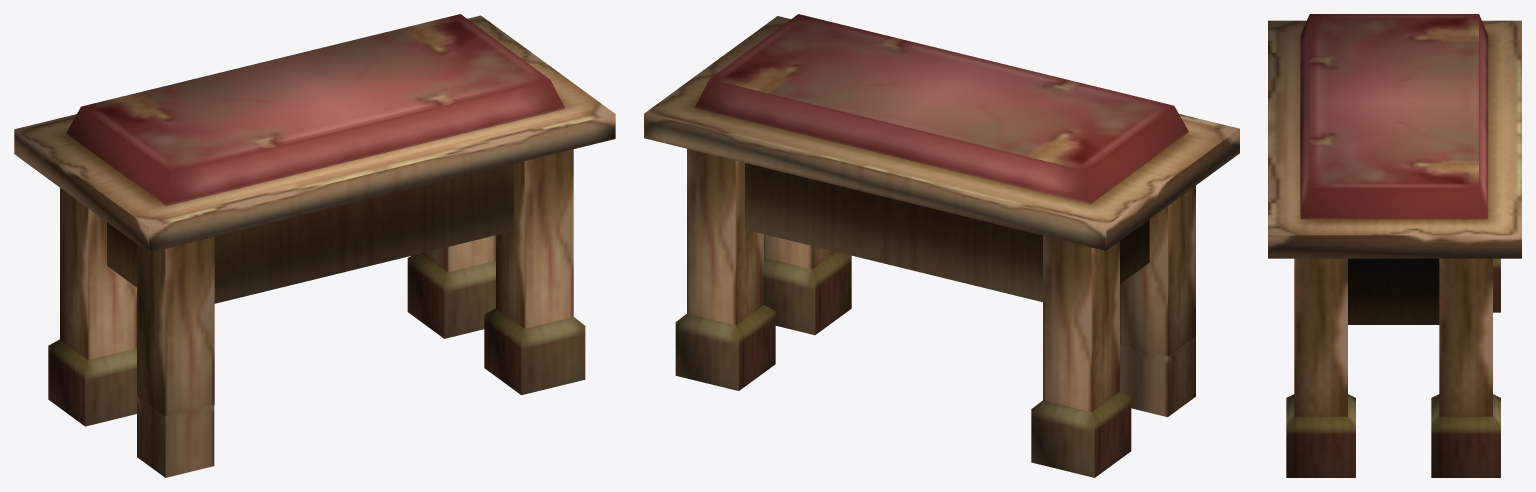
File: c_SWGchair03b.glb
3 renders of one model, left to right at view 1: azimuth 30°, elevation 25°; view 2: azimuth 150°, elevation 25°; view 3: azimuth 270°, elevation 25°, orthographic. The views are drawn at different scales.
Visible parts, largest first — view 1: c_SWGchair03b; view 2: c_SWGchair03b; view 3: c_SWGchair03b.
Boxes of the visible parts, x1,y1,x2,y2 form: c_SWGchair03b: (14, 14, 615, 477); c_SWGchair03b: (644, 14, 1239, 477); c_SWGchair03b: (1268, 14, 1521, 477).
Bounding box in the file's own units: 1 × 0.6068 × 0.5.
1 material, 1 textured.
